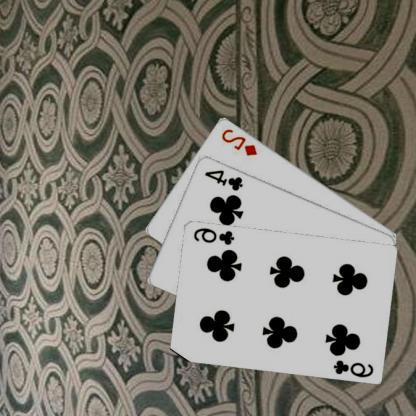2D: (220, 125, 260, 157)
4C: (204, 167, 246, 192)
6C: (193, 225, 237, 246), (332, 357, 376, 378)
